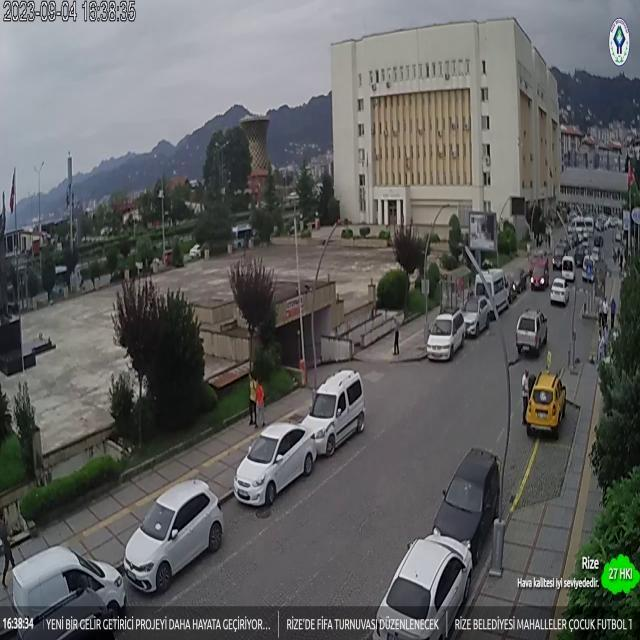Car: (122, 479, 224, 593), (372, 534, 476, 639), (432, 450, 502, 562), (233, 420, 316, 511), (426, 311, 466, 361), (516, 308, 548, 356), (458, 296, 491, 336), (549, 277, 570, 306)
Van: (10, 547, 126, 637), (302, 371, 366, 455)
